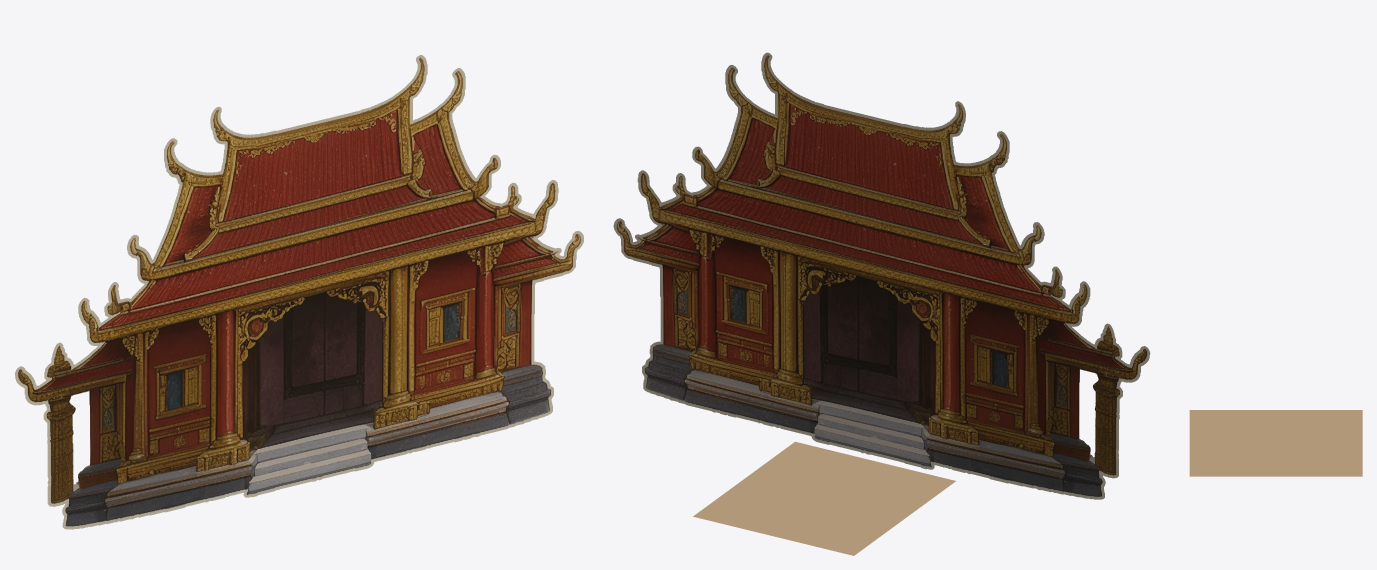
The model's file is toad-standee-cloud-house.glb.
The picture shows the model from 3 angles, left to right: view 1: azimuth 30°, elevation 25°; view 2: azimuth 150°, elevation 25°; view 3: azimuth 270°, elevation 25°; orthographic projection. The views are drawn at different scales.
Parts seen in each view (by area): view 1: cloud-house; view 2: cloud-house; view 3: cloud-house.
Part boxes in pixels (x1,y1,x2,y2): cloud-house: (15, 55, 583, 529); cloud-house: (613, 52, 1150, 555); cloud-house: (1189, 410, 1362, 476).
Bounding box in the file's own units: 0.1 × 0.0675 × 0.035.
Materials: 1 (1 with a texture image).
